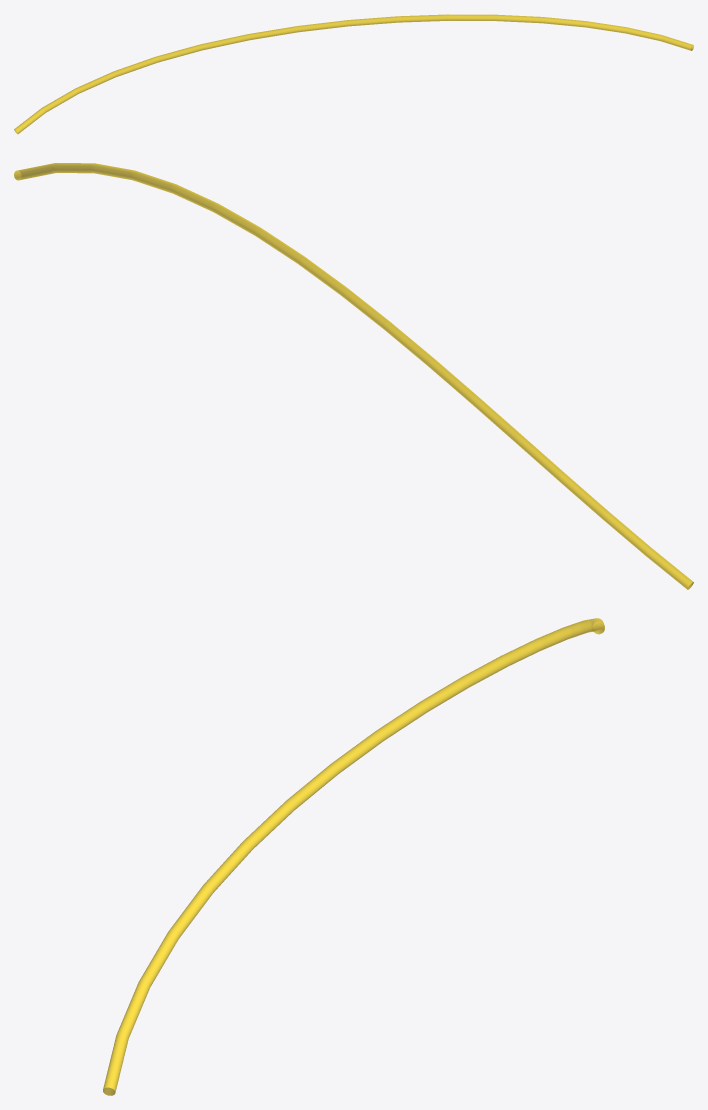
Rendered from Event_40932208_track_35.fbx.
3 renders of one model, top to bottom at view 1: azimuth 30°, elevation 25°; view 2: azimuth 150°, elevation 25°; view 3: azimuth 270°, elevation 25°, orthographic. The views are drawn at different scales.
Visible parts, largest first — view 1: Model; view 2: Model; view 3: Model.
Boxes of the visible parts, x1,y1,x2,y2 form: Model: (14, 14, 693, 134); Model: (14, 163, 693, 589); Model: (103, 618, 604, 1095).
Bounding box in the file's own units: 3.99 × 0.6145 × 1.56.
